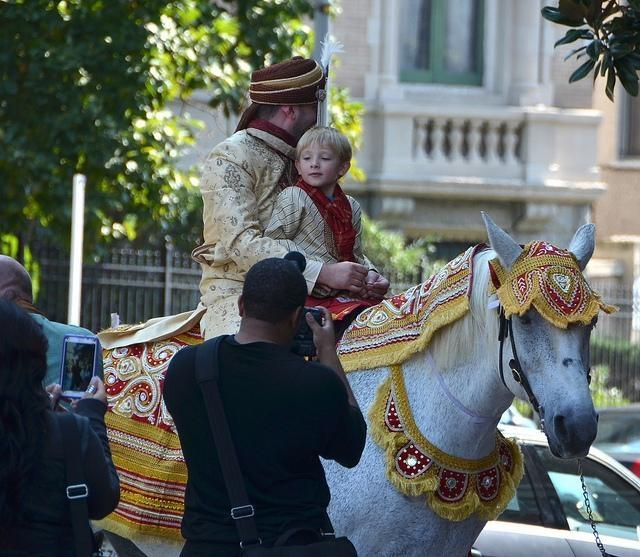car: (468, 423, 640, 557), (594, 406, 640, 464)
